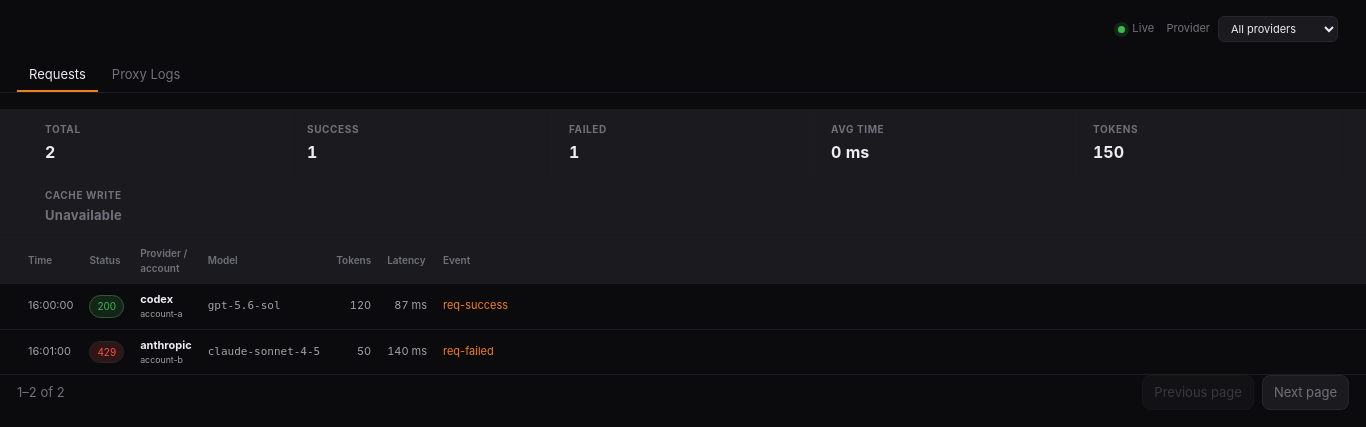
Scenario: Durable logs surface › keeps a provider-filtered page when a slower background request resolves late
Expected: the button "req-success" is shown, x1=443 y1=298 x2=1338 y2=314
Select "anthropic" in the dropdown named "Log provider filter" at (1278, 29), box x1=1218 y1=16 x2=1338 y2=42
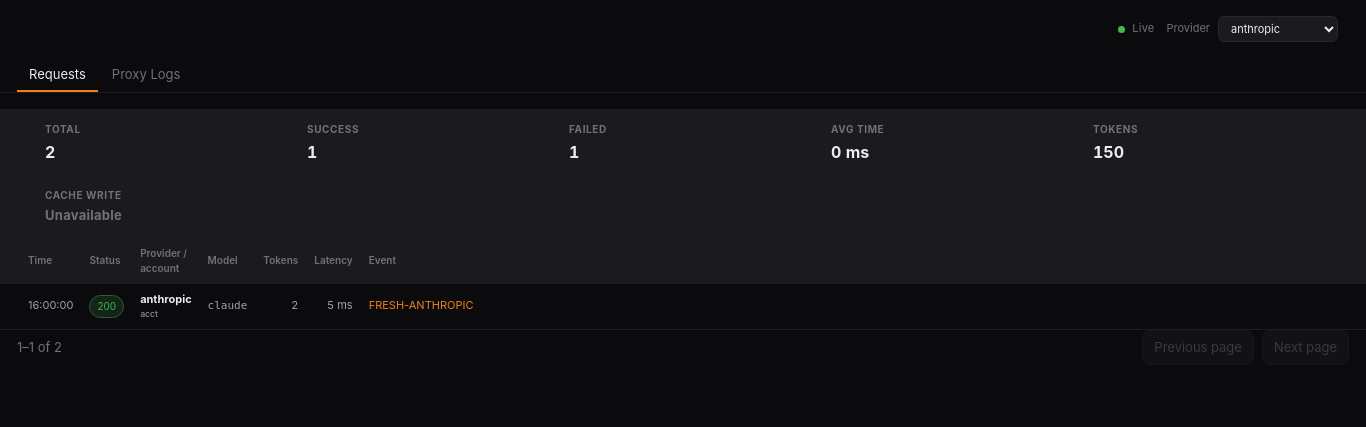
Result: the button "FRESH-ANTHROPIC" is shown at x1=369 y1=298 x2=1338 y2=314
